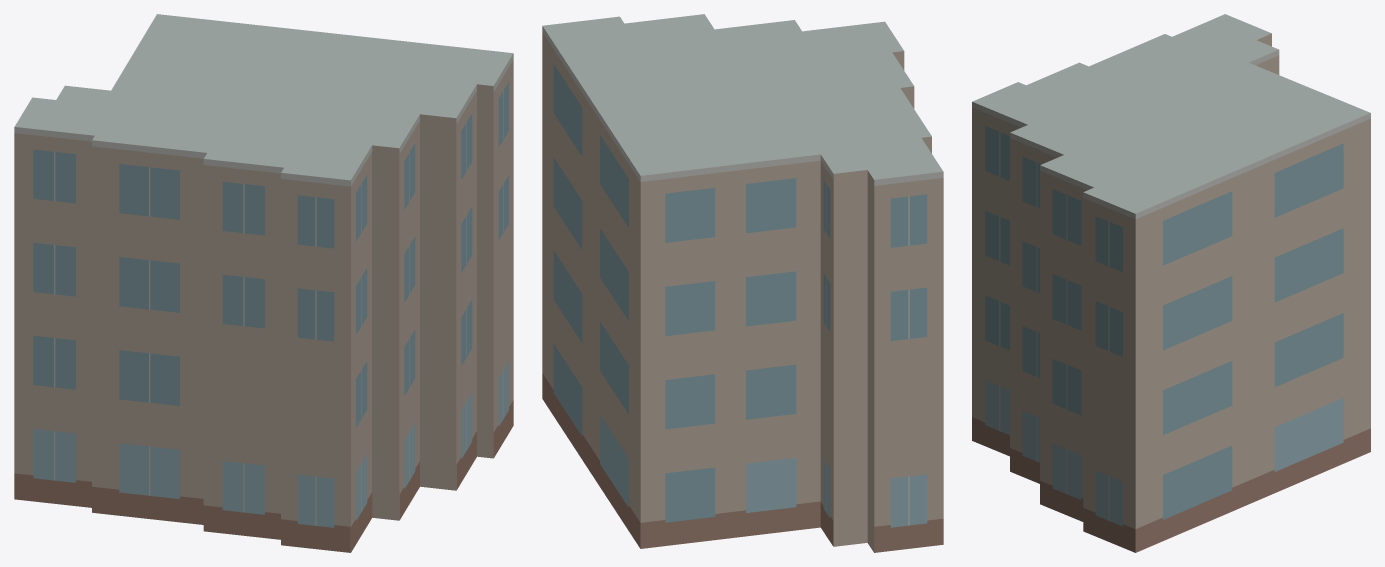
Rendered from survey-upis-32618611.glb.
3 renders of one model, left to right at view 1: azimuth 30°, elevation 25°; view 2: azimuth 150°, elevation 25°; view 3: azimuth 270°, elevation 25°, orthographic. The views are drawn at different scales.
Visible parts, largest first — view 1: survey-upis-32618611.tmp; view 2: survey-upis-32618611.tmp; view 3: survey-upis-32618611.tmp.
Part boxes in pixels (x1,y1,x2,y2): survey-upis-32618611.tmp: (14,14,513,552); survey-upis-32618611.tmp: (542,14,943,552); survey-upis-32618611.tmp: (972,14,1370,552).
Size of the model in its own units: 18.78 by 14.85 by 15.83.
